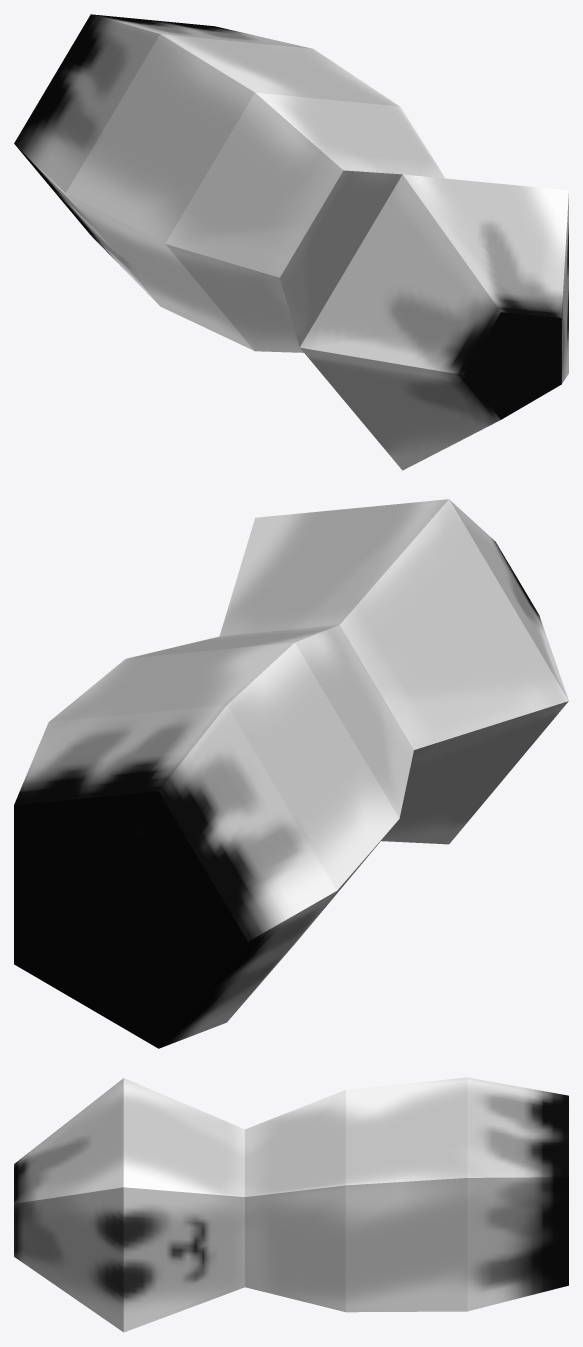
The model's file is ghost.glb.
The picture shows the model from 3 angles, top to bottom: view 1: azimuth 30°, elevation 25°; view 2: azimuth 150°, elevation 25°; view 3: azimuth 270°, elevation 25°; orthographic projection. The views are drawn at different scales.
Visible parts, largest first — view 1: Cylinder; view 2: Cylinder; view 3: Cylinder.
Part boxes in pixels (x1,y1,x2,y2): Cylinder: [14, 14, 568, 470]; Cylinder: [14, 499, 568, 1048]; Cylinder: [14, 1077, 568, 1332].
Bounding box in the file's own units: 1.56 × 1.54 × 3.29.
Materials: 1 (1 with a texture image).
